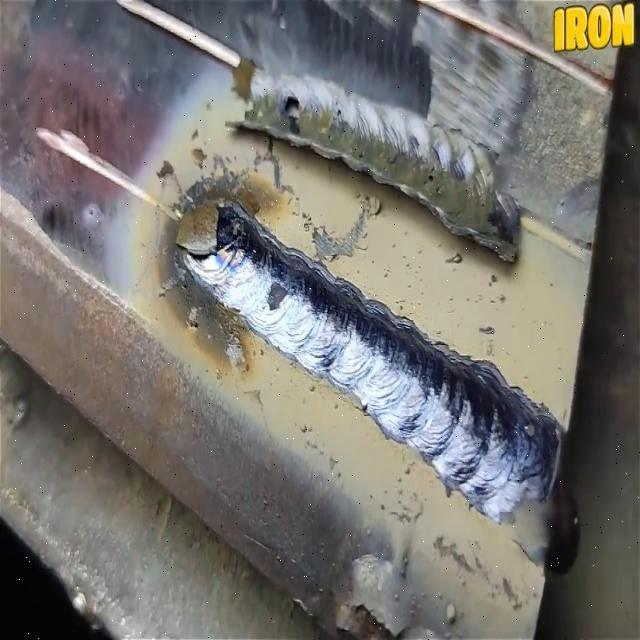Bad Welding: (185, 202, 561, 522)
